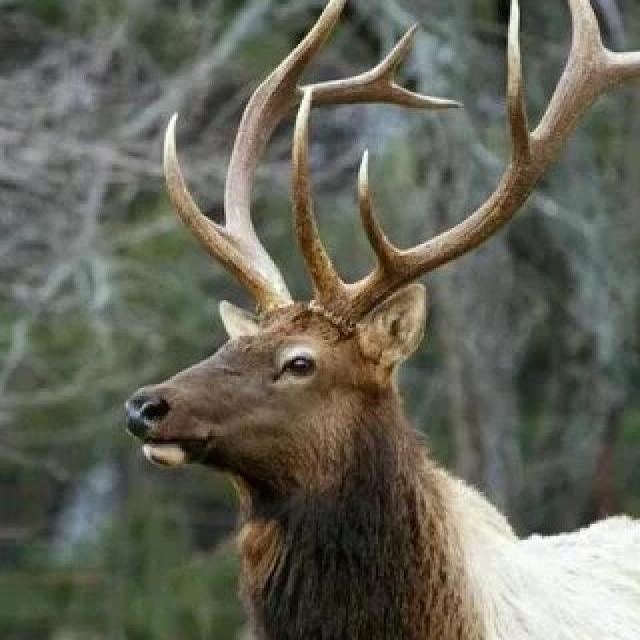deer: (58, 49, 640, 640)
